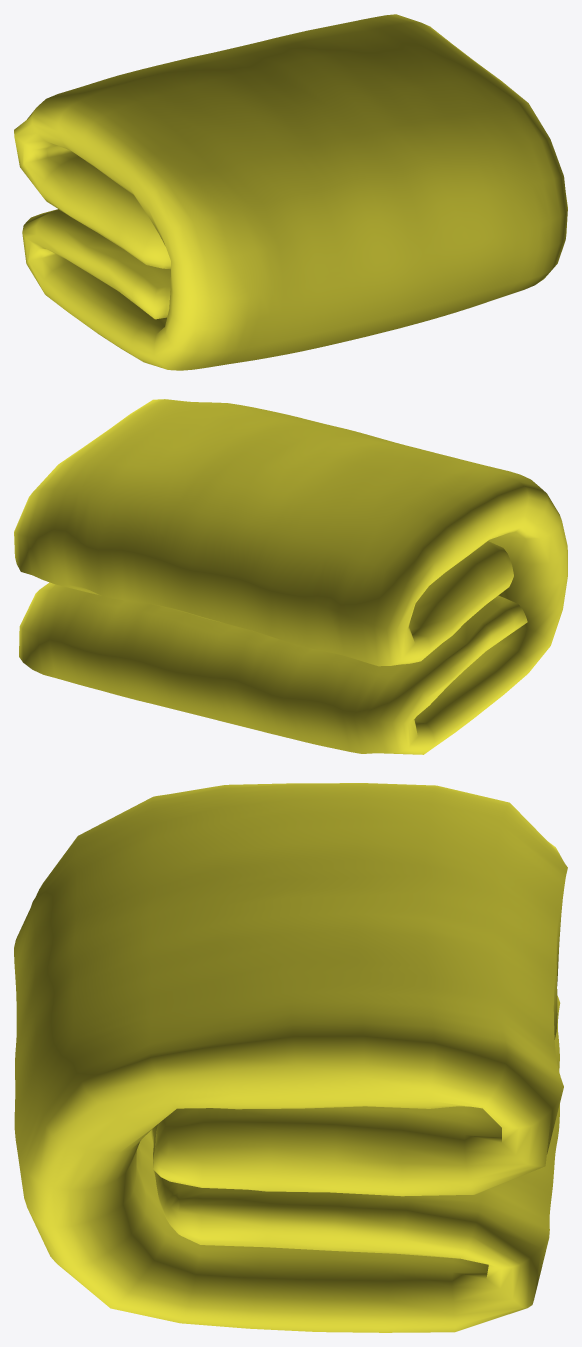
The model's file is Blanket 2.fbx.
The picture shows the model from 3 angles, top to bottom: view 1: azimuth 30°, elevation 25°; view 2: azimuth 150°, elevation 25°; view 3: azimuth 270°, elevation 25°; orthographic projection. The views are drawn at different scales.
Visible parts, largest first — view 1: Node 0; view 2: Node 0; view 3: Node 0.
Part boxes in pixels (left/top/right/bottom): Node 0: left=14, top=14, right=567, bottom=370; Node 0: left=14, top=399, right=567, bottom=754; Node 0: left=14, top=783, right=567, bottom=1332.
Size of the model in its own units: 0.6018 by 0.3849 by 0.7234.
